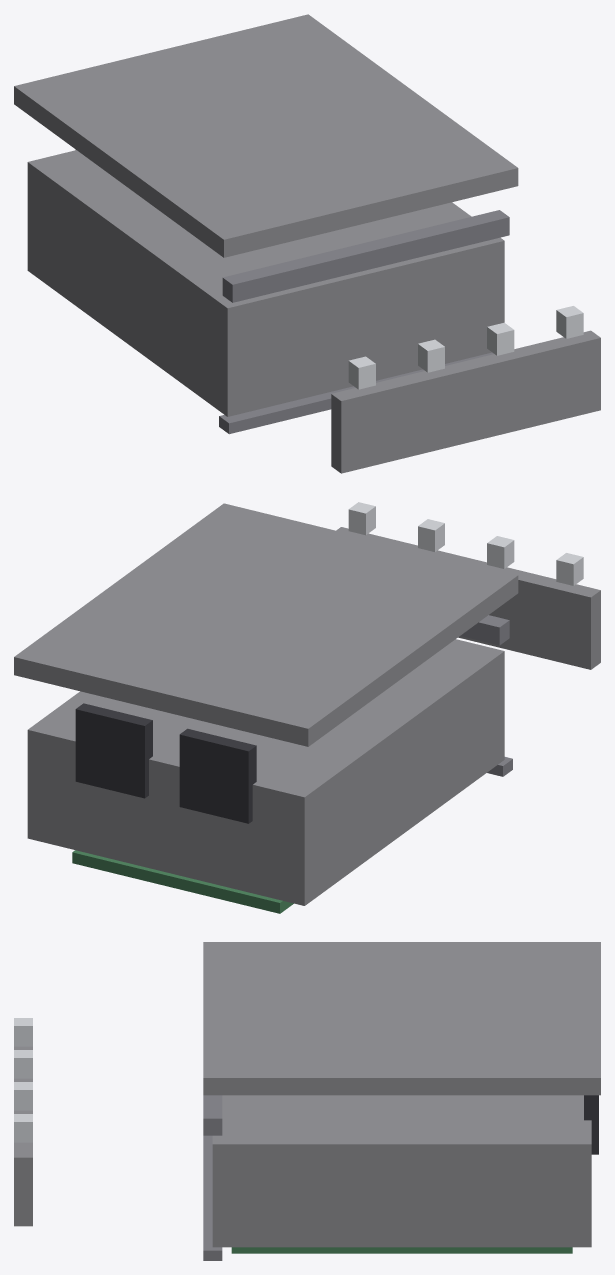
Rendered from hard_drive.gltf.
3 views of the same model, one above another, from view 1: azimuth 30°, elevation 25°; view 2: azimuth 150°, elevation 25°; view 3: azimuth 270°, elevation 25° (orthographic). The views are drawn at different scales.
Parts seen in each view (by area): view 1: hard_drive; view 2: hard_drive; view 3: hard_drive.
Boxes of the visible parts, x1,y1,x2,y2 form: hard_drive: (14, 14, 600, 473); hard_drive: (14, 502, 600, 913); hard_drive: (14, 942, 600, 1260).
Bounding box in the file's own units: 0.085 × 0.057 × 0.155.
